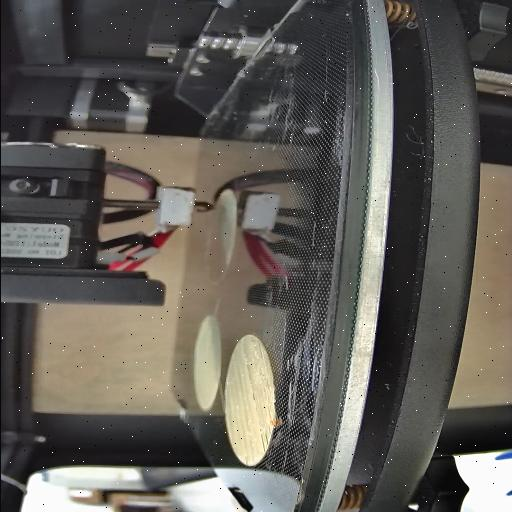under_extrusion: (259, 424, 271, 455), (258, 400, 272, 420), (244, 446, 256, 467), (244, 360, 254, 382), (255, 342, 267, 359), (248, 382, 256, 404), (262, 376, 270, 392)
